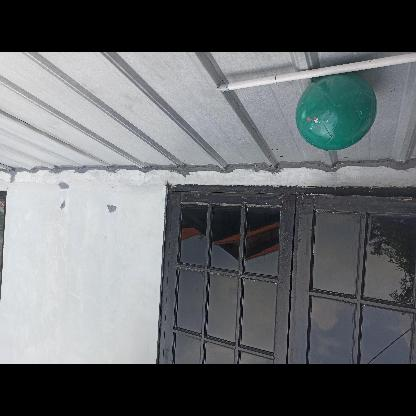green_ball: (295, 71, 375, 151)
